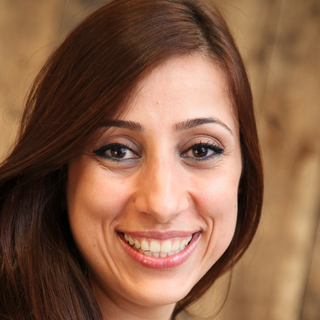eye: (91, 135, 147, 165), (175, 138, 225, 166)
